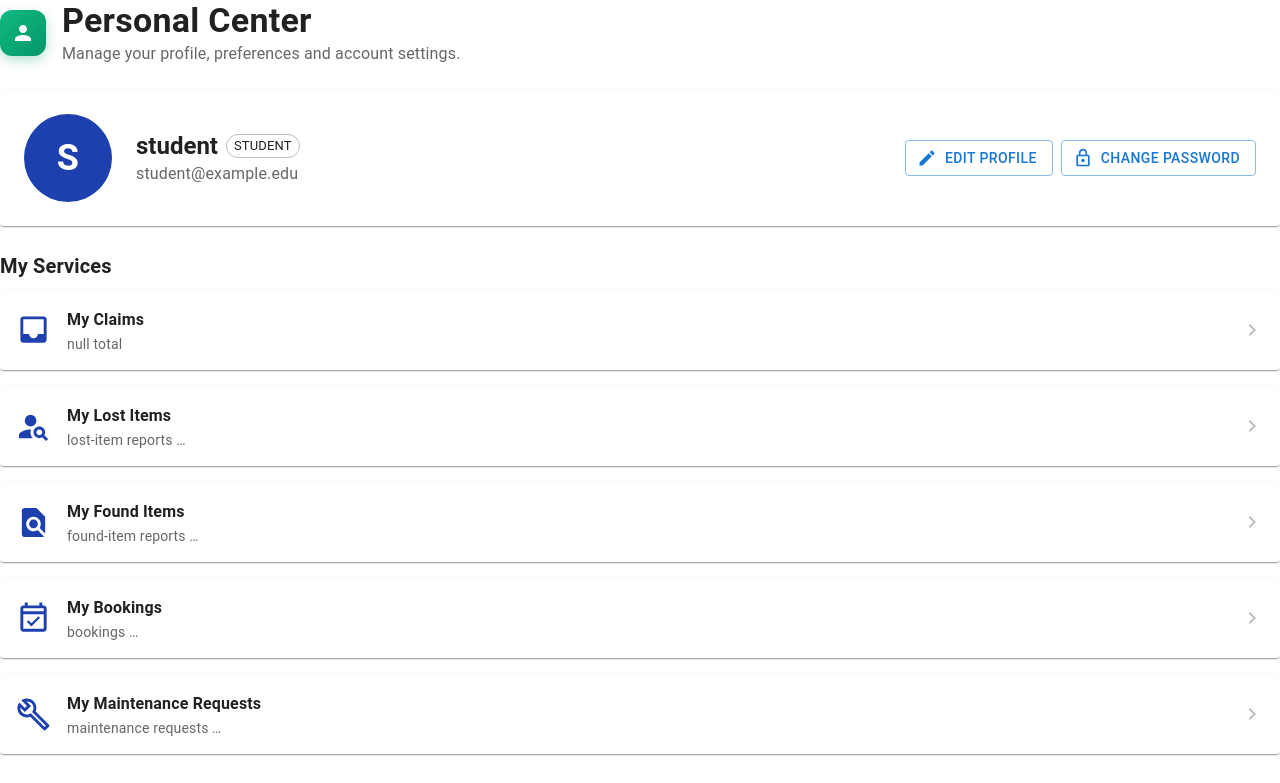
Test case: ProfilePage › lets the user change their password and shows a success message
Click the button "Change password": (1158, 158) [1061,140,1256,176]
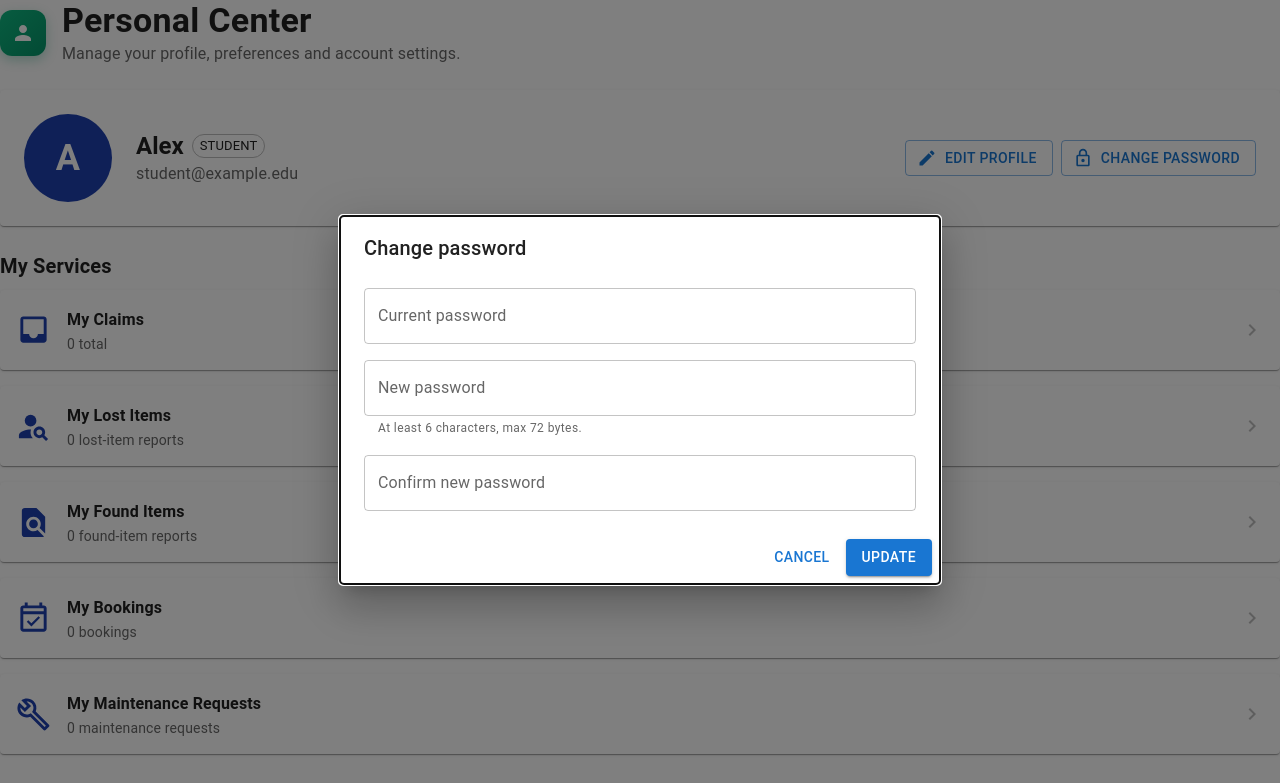
In the password field labelled "Current password": (640, 316) [364,288,916,344], type "old-pass"
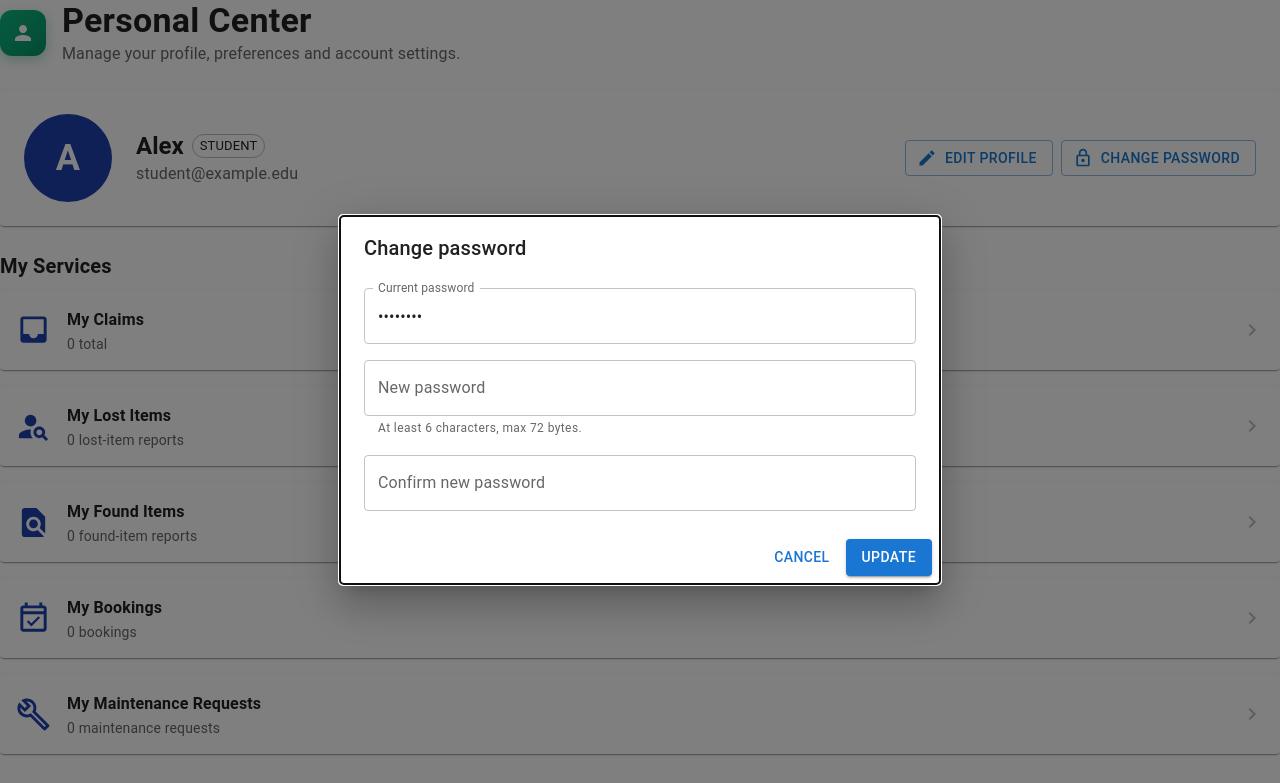
In the password field labelled "New password": (640, 388) [364,360,916,416], type "new-pass-123"
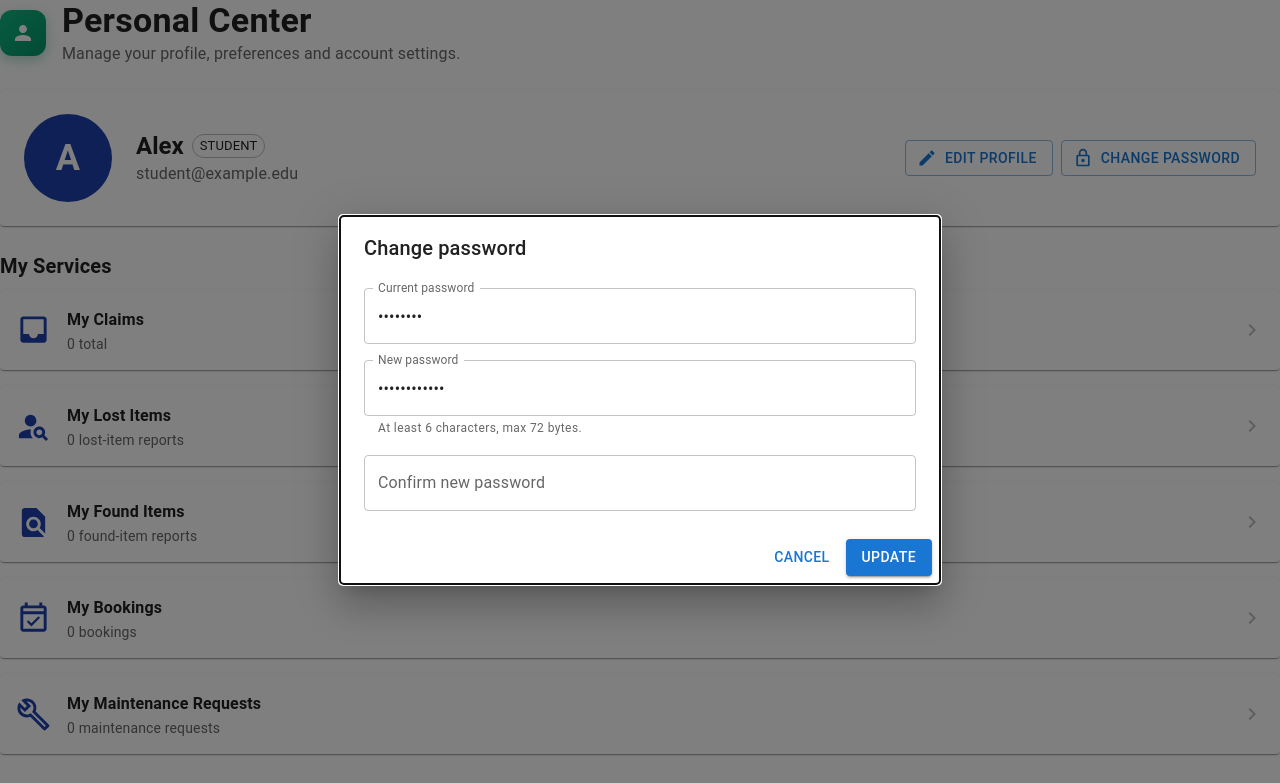
In the password field labelled "Confirm new password": (640, 483) [364,455,916,511], type "new-pass-123"
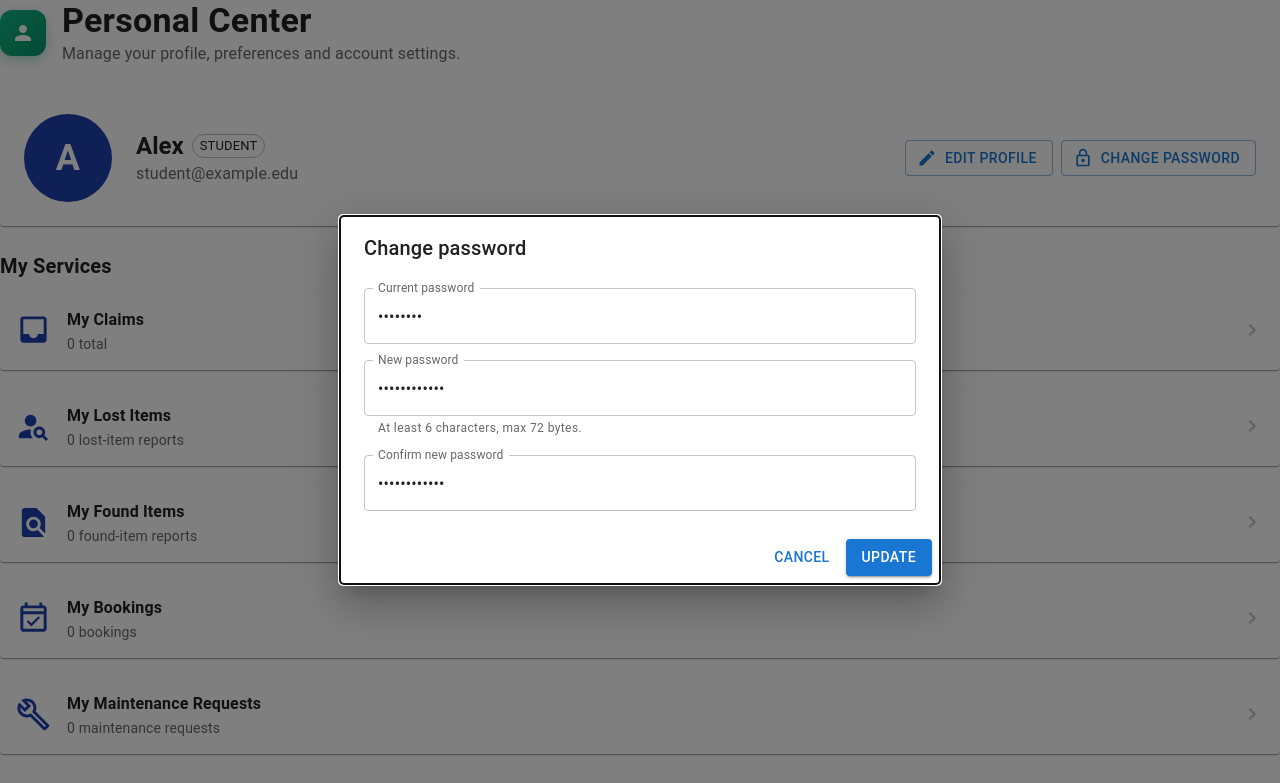
Click the button "Update": (889, 557) [846,539,932,576]
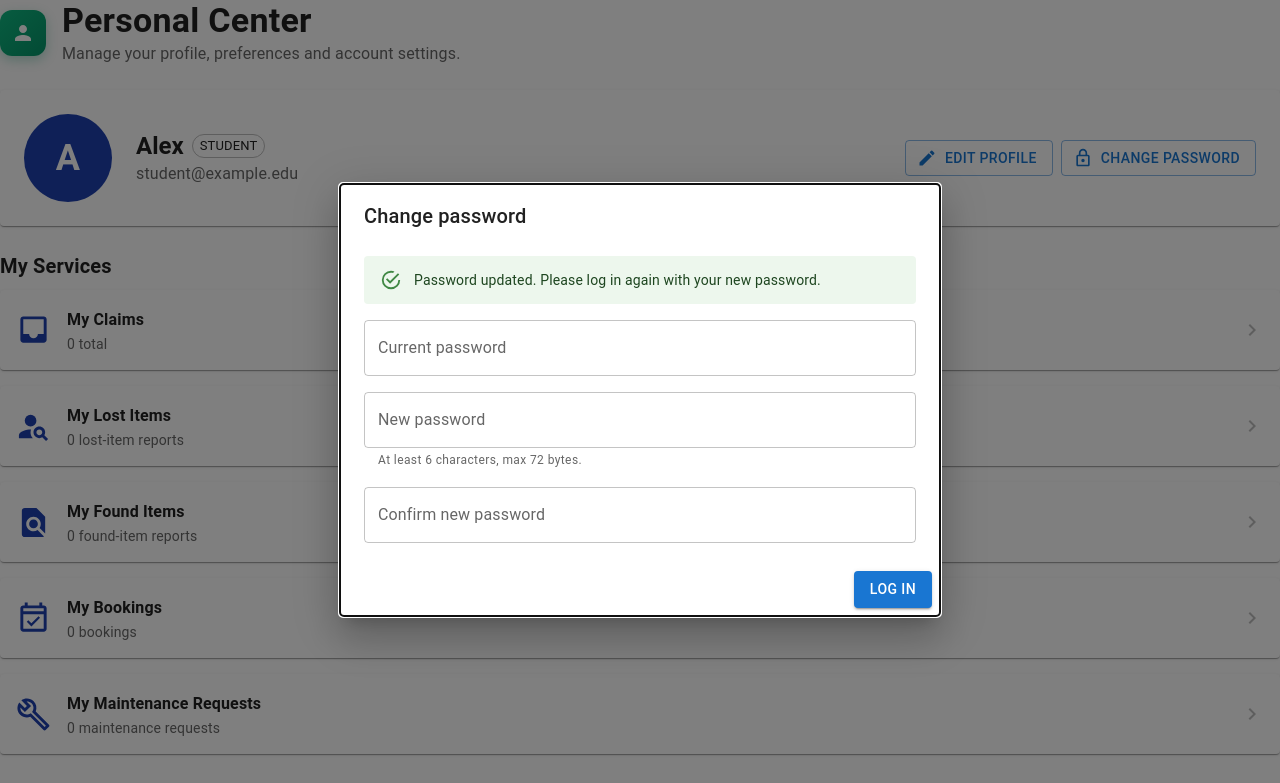
Expected: the text "Password updated" is shown, [414,272,821,288]
